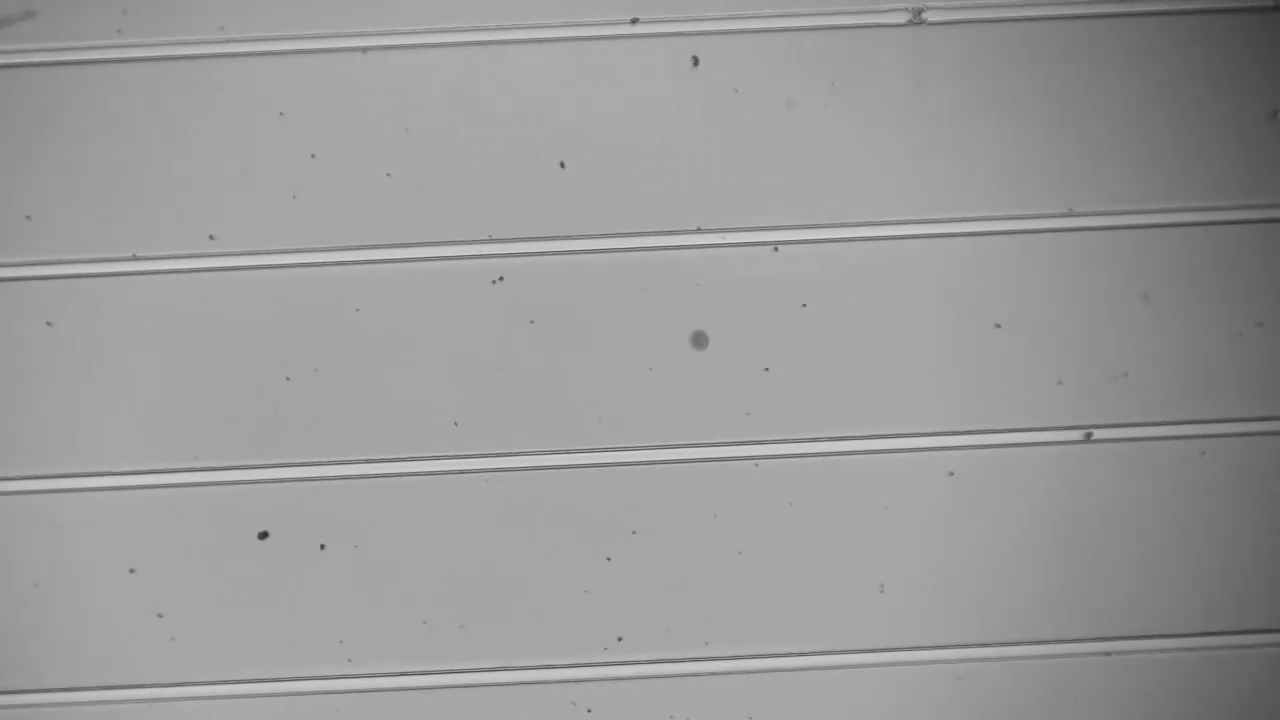stains_enbedded: (895, 1, 933, 34), (1075, 419, 1100, 448)
